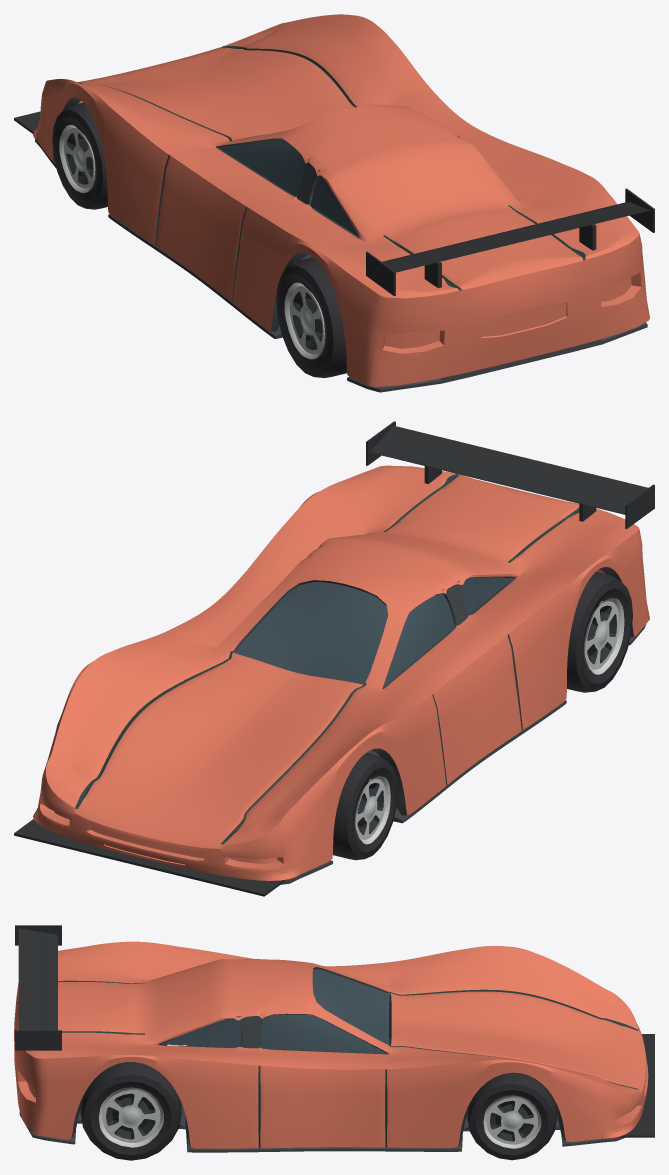
File: forge_canopy_prototype_lod2.fbx
The picture shows the model from 3 angles, top to bottom: view 1: azimuth 30°, elevation 25°; view 2: azimuth 150°, elevation 25°; view 3: azimuth 270°, elevation 25°; orthographic projection. The views are drawn at different scales.
Visible parts, largest first — view 1: Body, Wheel_RL_Mesh, Wheel_FL_Mesh; view 2: Body, Wheel_RL_Mesh, Wheel_FL_Mesh; view 3: Body, Wheel_RR_Mesh, Wheel_FR_Mesh.
Part boxes in pixels (x1,y1,x2,y2): Body: (14, 14, 654, 392); Wheel_RL_Mesh: (276, 257, 347, 377); Wheel_FL_Mesh: (52, 102, 107, 209); Body: (14, 421, 654, 896); Wheel_RL_Mesh: (567, 571, 632, 692); Wheel_FL_Mesh: (332, 753, 397, 860); Body: (14, 925, 654, 1152); Wheel_RR_Mesh: (80, 1062, 181, 1160); Wheel_FR_Mesh: (467, 1072, 556, 1160).
Size of the model in its own units: 180 by 85.41 by 397.
